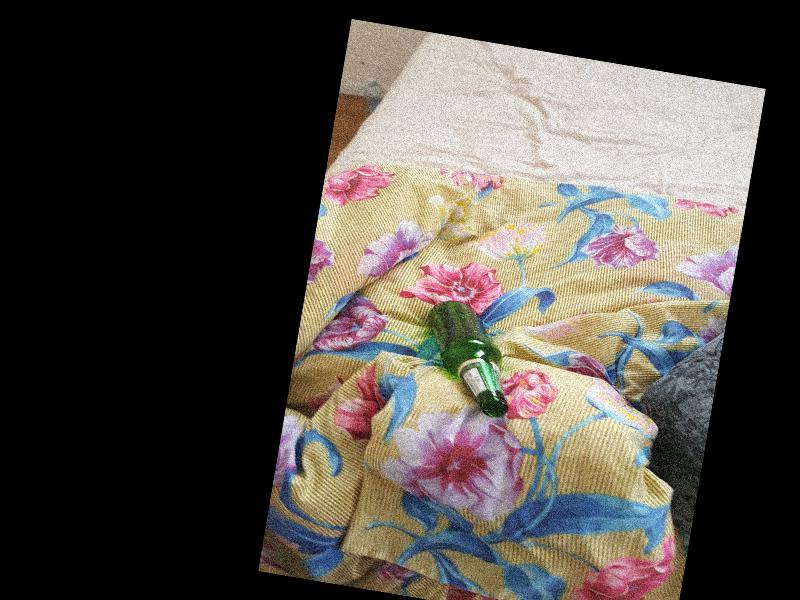Beer: (413, 297, 522, 420)
